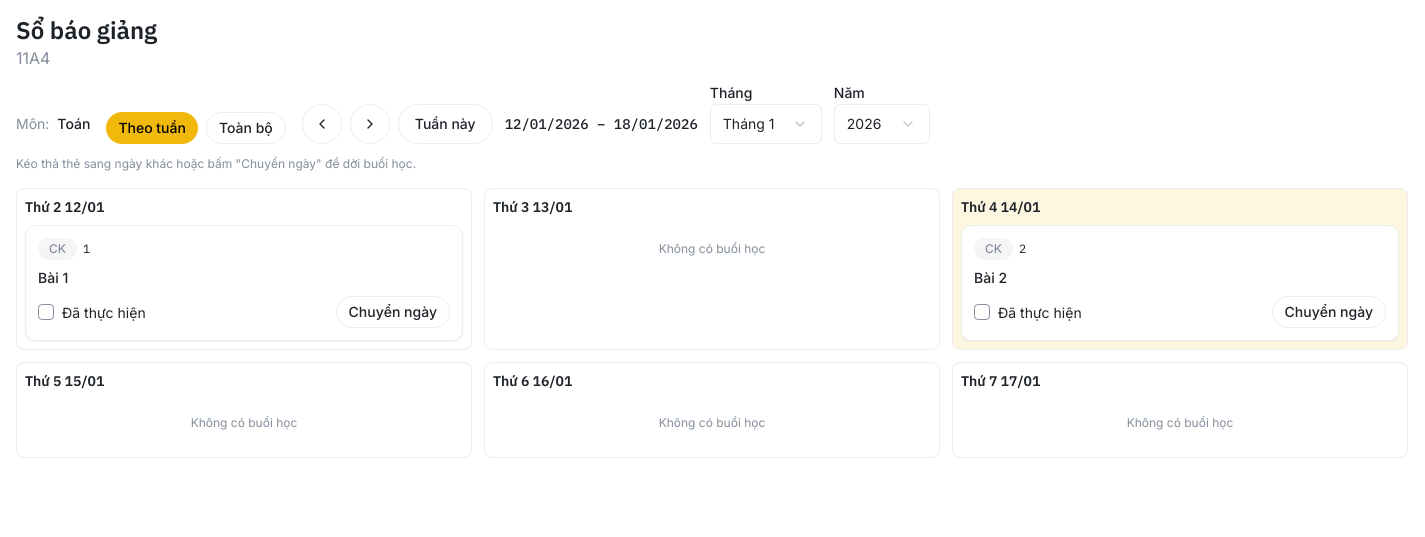
Test: tích "Đã thực hiện" với invalidation thật › PATCH bị 403 của guard (body thật của Nest) → câu tiếng Việt cố định, checkbox về trạng thái trong dữ liệu
The width and height of the screenshot is (1425, 537).
Click the checkbox named "Đã thực hiện: Bài 1". click: click(46, 312)
box: [38,304,54,320]
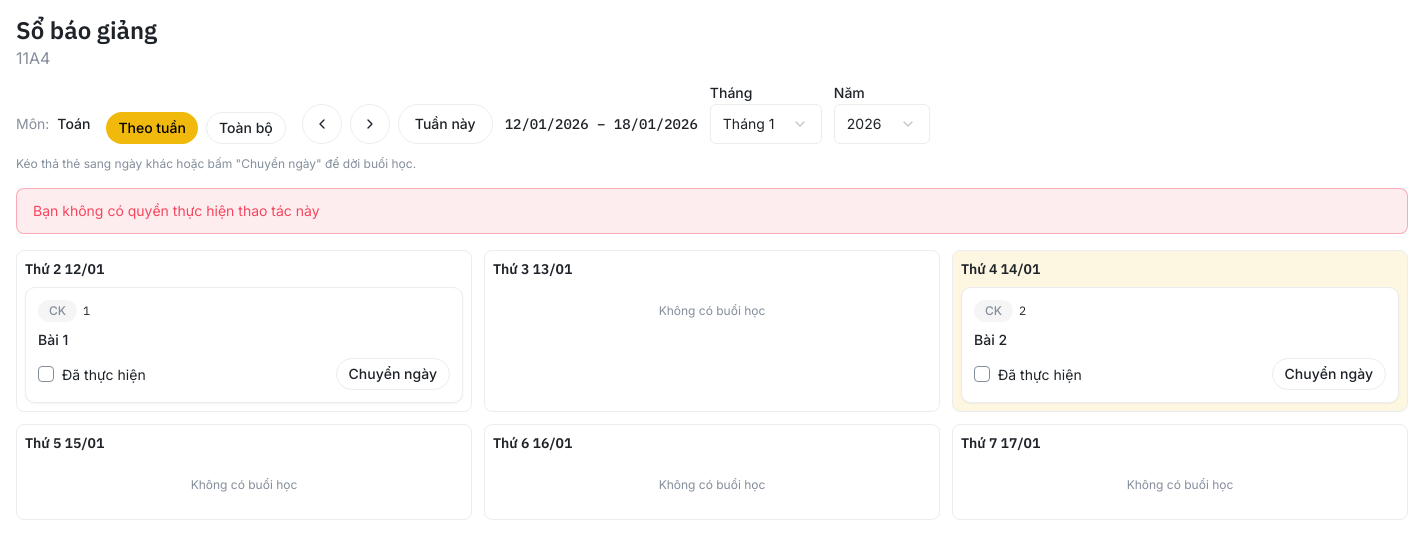
expect the checkbox named "Đã thực hiện: Bài 1" is not checked: met, box [38,366,54,382]
expect the message reads "Bạn không có quyền thực hiện thao tác này": met, box [33,202,320,219]
